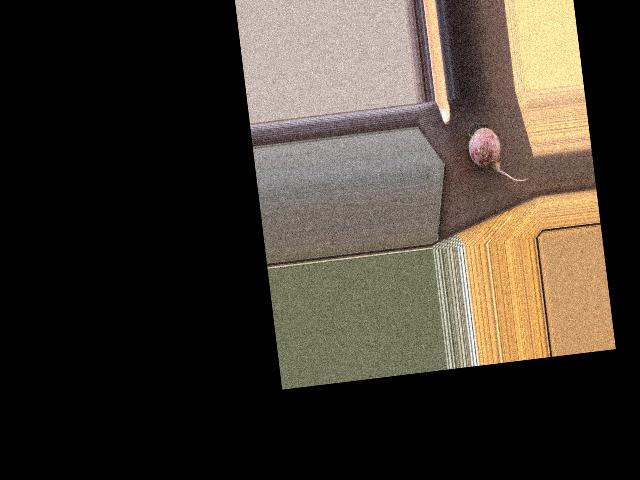beet: (465, 112, 527, 187)
